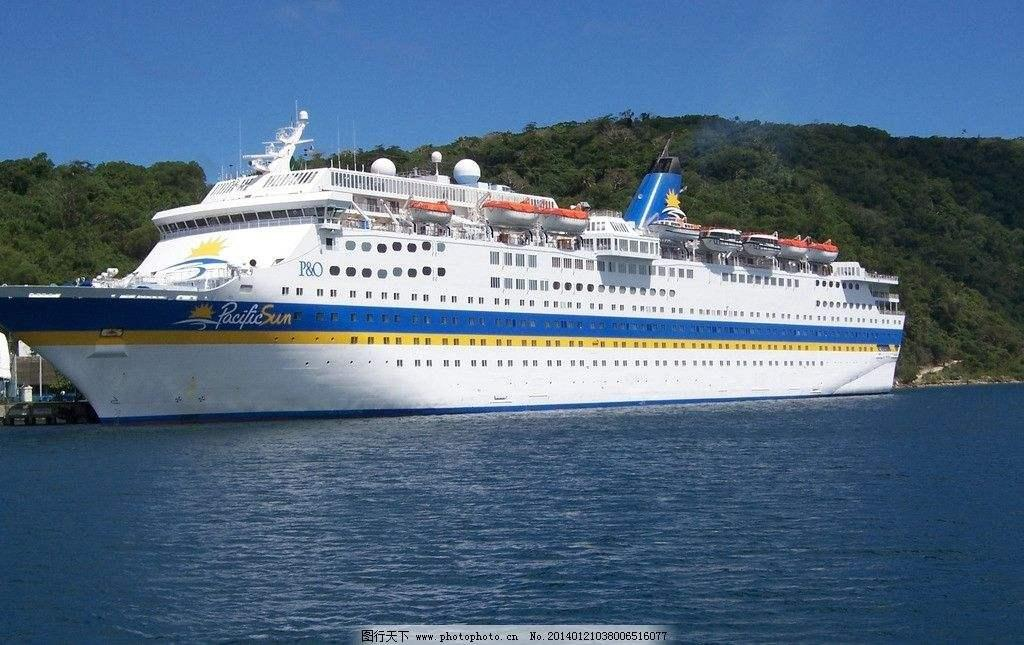youlun: (13, 131, 910, 429)
